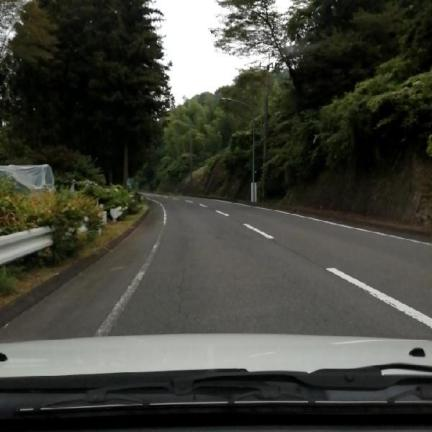Road: (0, 196, 431, 341)
